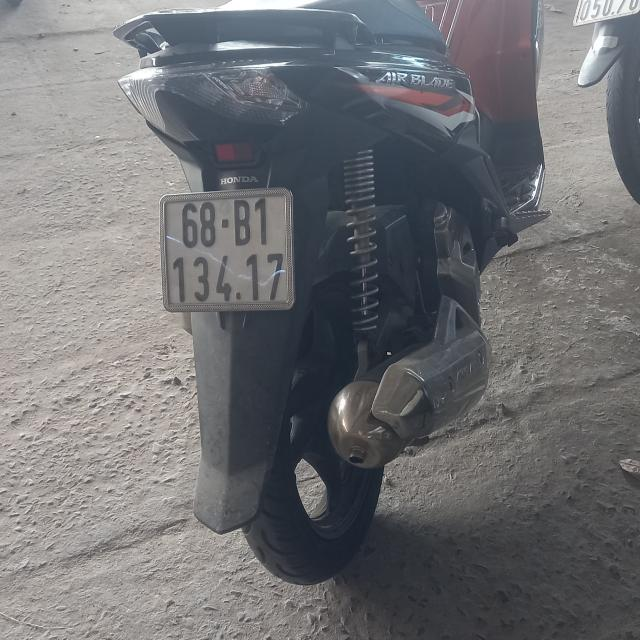1: (173, 257, 186, 304), (247, 254, 260, 301), (254, 198, 267, 244)
3: (194, 256, 208, 301)
4: (216, 255, 231, 302)
6: (182, 202, 198, 246)
7: (264, 252, 283, 300)
8: (198, 202, 216, 246)
B: (234, 199, 251, 247)
